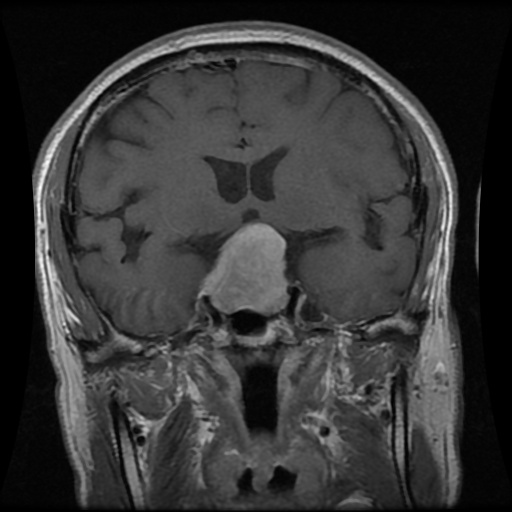pituitary: (199, 220, 289, 317)
